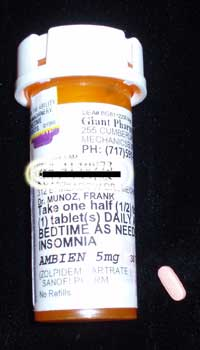pill bottle: (15, 25, 146, 321)
